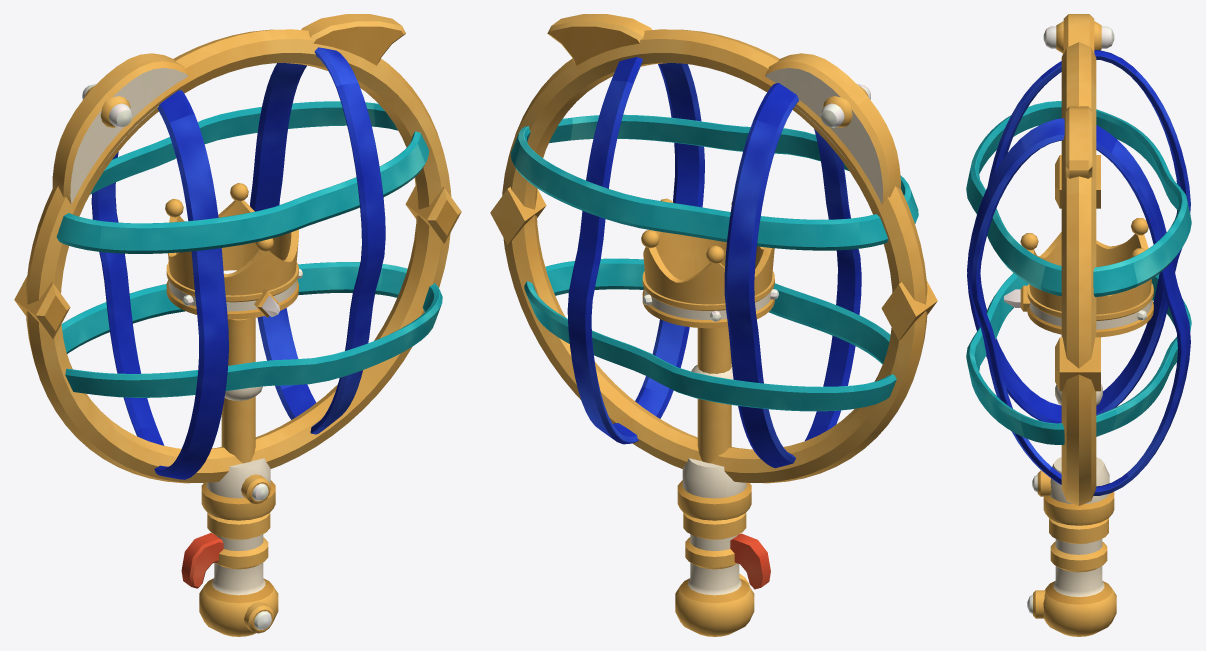
The model's file is CrownHeist_v006.fbx.
The picture shows the model from 3 angles, left to right: view 1: azimuth 30°, elevation 25°; view 2: azimuth 150°, elevation 25°; view 3: azimuth 270°, elevation 25°; orthographic projection. The views are drawn at different scales.
Visible parts, largest first — view 1: CrownHeist_Net, CrownHeist_Crown; view 2: CrownHeist_Net, CrownHeist_Crown; view 3: CrownHeist_Net, CrownHeist_Crown.
Part boxes in pixels (x1,y1,x2,y2): CrownHeist_Net: (14, 14, 461, 636); CrownHeist_Crown: (165, 183, 302, 319); CrownHeist_Net: (490, 14, 937, 636); CrownHeist_Crown: (641, 198, 778, 328); CrownHeist_Net: (966, 14, 1191, 636); CrownHeist_Crown: (1004, 218, 1153, 337).
Size of the model in its own units: 0.98 by 1.31 by 0.4701.
1 material, 1 textured.
